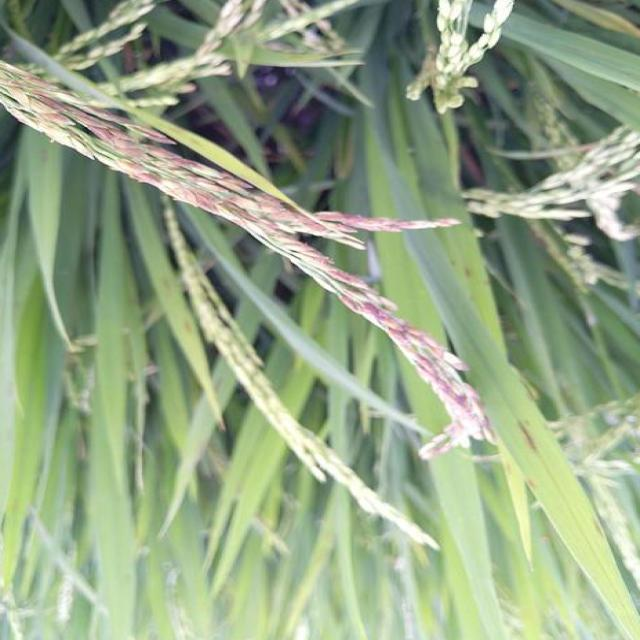Panicle Blight: (0, 60, 497, 455)
